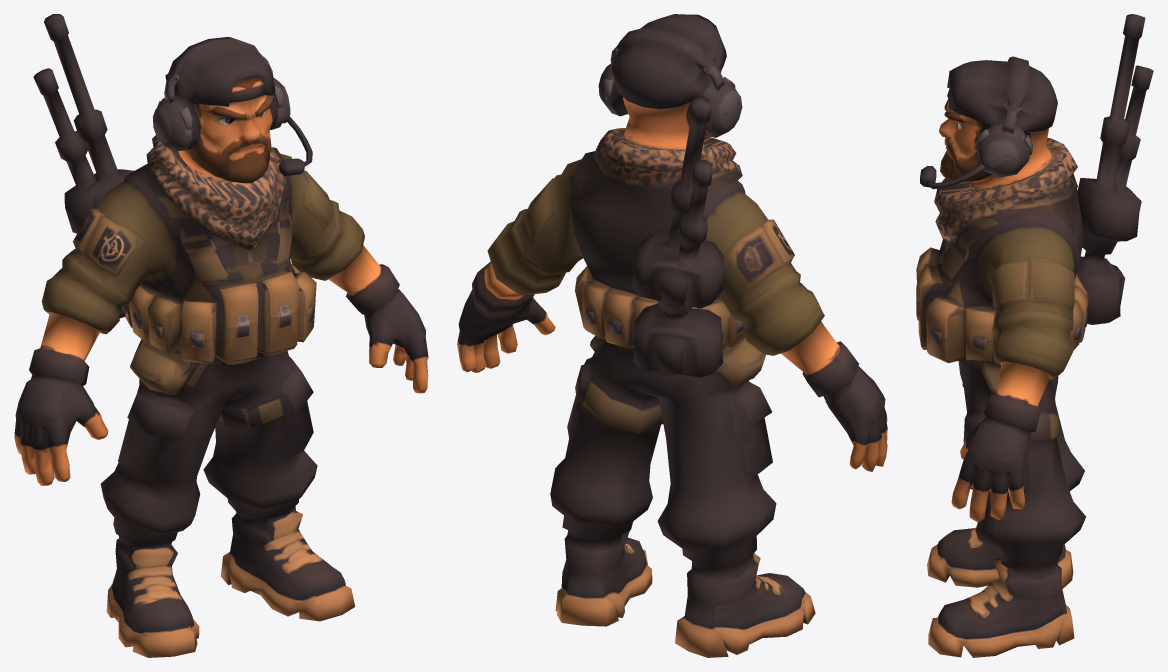
The model's file is sniper.glb.
3 views of the same model, side by side, from view 1: azimuth 30°, elevation 25°; view 2: azimuth 150°, elevation 25°; view 3: azimuth 270°, elevation 25° (orthographic). The views are drawn at different scales.
Visible parts, largest first — view 1: tripo_node_82dabae7-7fda-4182-ac2e-af0180fd490c; view 2: tripo_node_82dabae7-7fda-4182-ac2e-af0180fd490c; view 3: tripo_node_82dabae7-7fda-4182-ac2e-af0180fd490c.
Boxes of the visible parts, left/top/right/bottom form: tripo_node_82dabae7-7fda-4182-ac2e-af0180fd490c: left=14, top=14, right=428, bottom=657; tripo_node_82dabae7-7fda-4182-ac2e-af0180fd490c: left=457, top=14, right=887, bottom=657; tripo_node_82dabae7-7fda-4182-ac2e-af0180fd490c: left=916, top=14, right=1153, bottom=657.
Size of the model in its own units: 0.7363 by 0.998 by 0.3926.
1 material, 1 textured.
